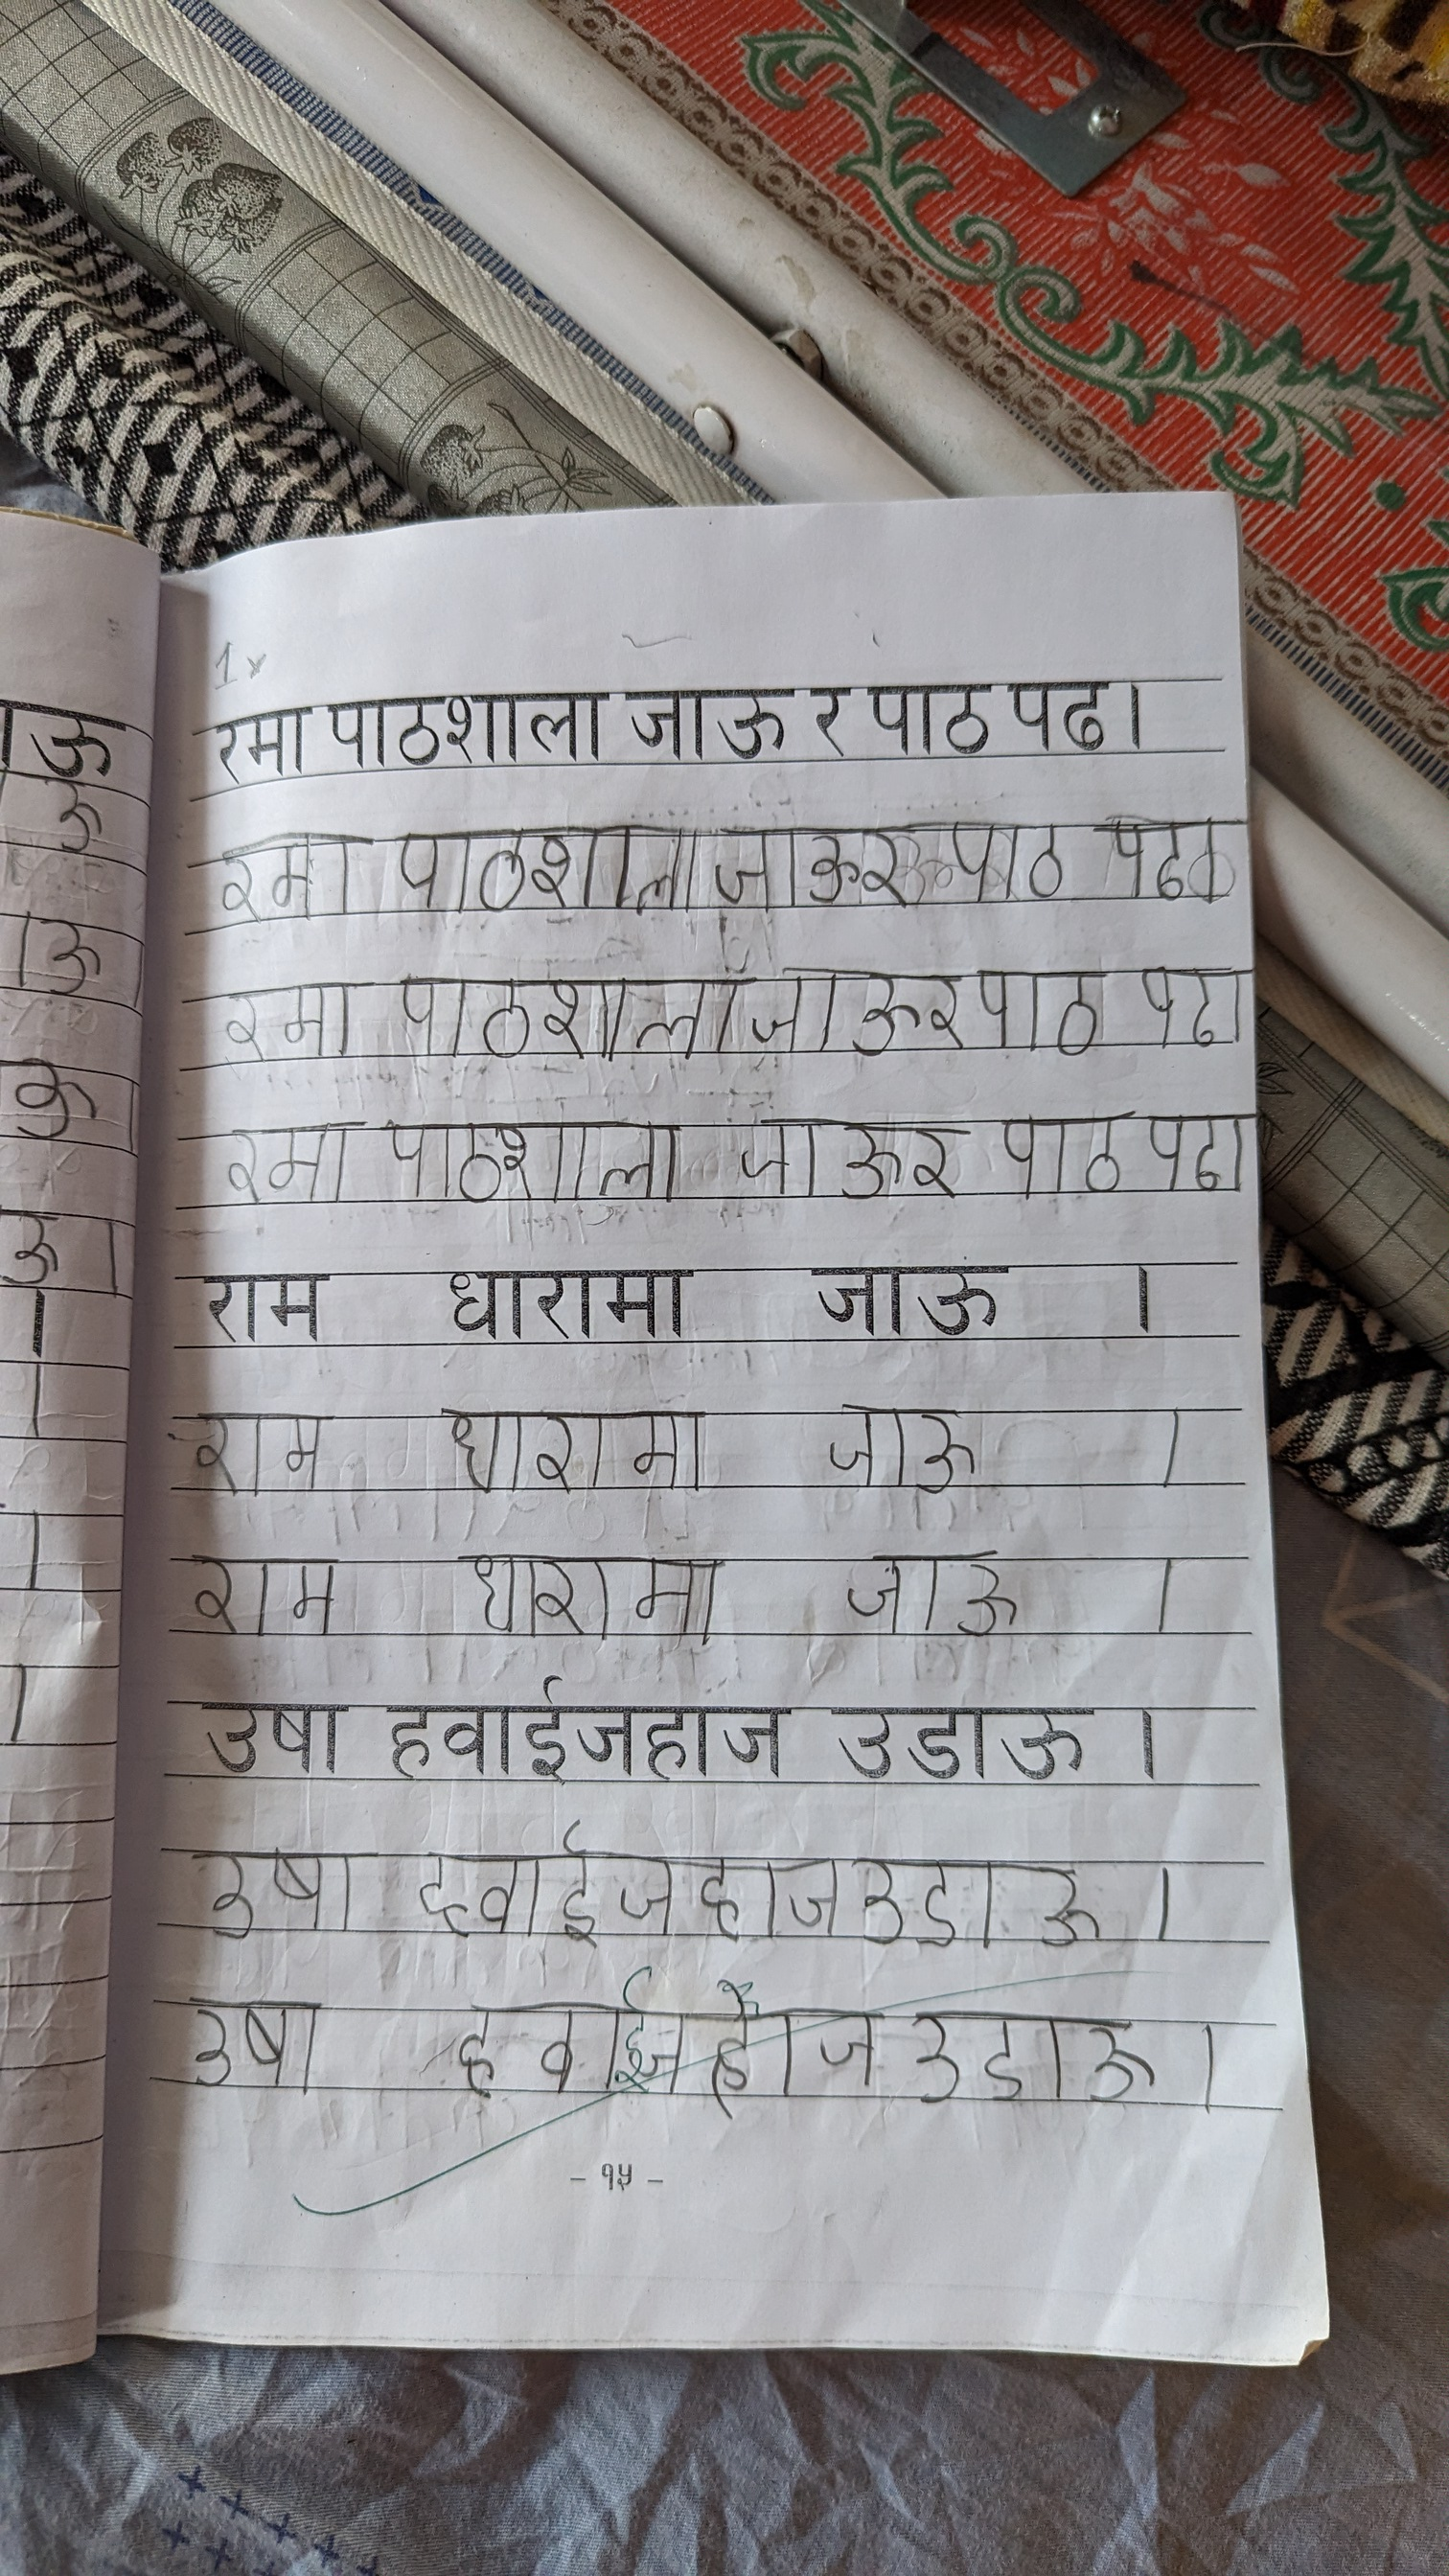text: (451, 1967, 883, 2114), (416, 1817, 847, 1943), (396, 970, 747, 1063), (393, 816, 706, 916), (379, 1120, 704, 1205), (456, 1550, 731, 1649), (847, 1849, 1104, 1953), (911, 2005, 1161, 2109), (435, 1405, 706, 1500), (752, 955, 970, 1058), (736, 1116, 964, 1207), (718, 816, 915, 913), (184, 1842, 363, 1939), (842, 1548, 1023, 1644), (821, 1396, 977, 1497), (212, 830, 368, 929), (173, 1994, 326, 2095), (186, 1548, 341, 1638), (938, 814, 1072, 911), (218, 1120, 359, 1210), (970, 964, 1106, 1054), (189, 1412, 329, 1497), (998, 1109, 1123, 1201), (1132, 961, 1244, 1056), (218, 991, 357, 1067), (1100, 814, 1196, 913), (1141, 1109, 1249, 1194)
